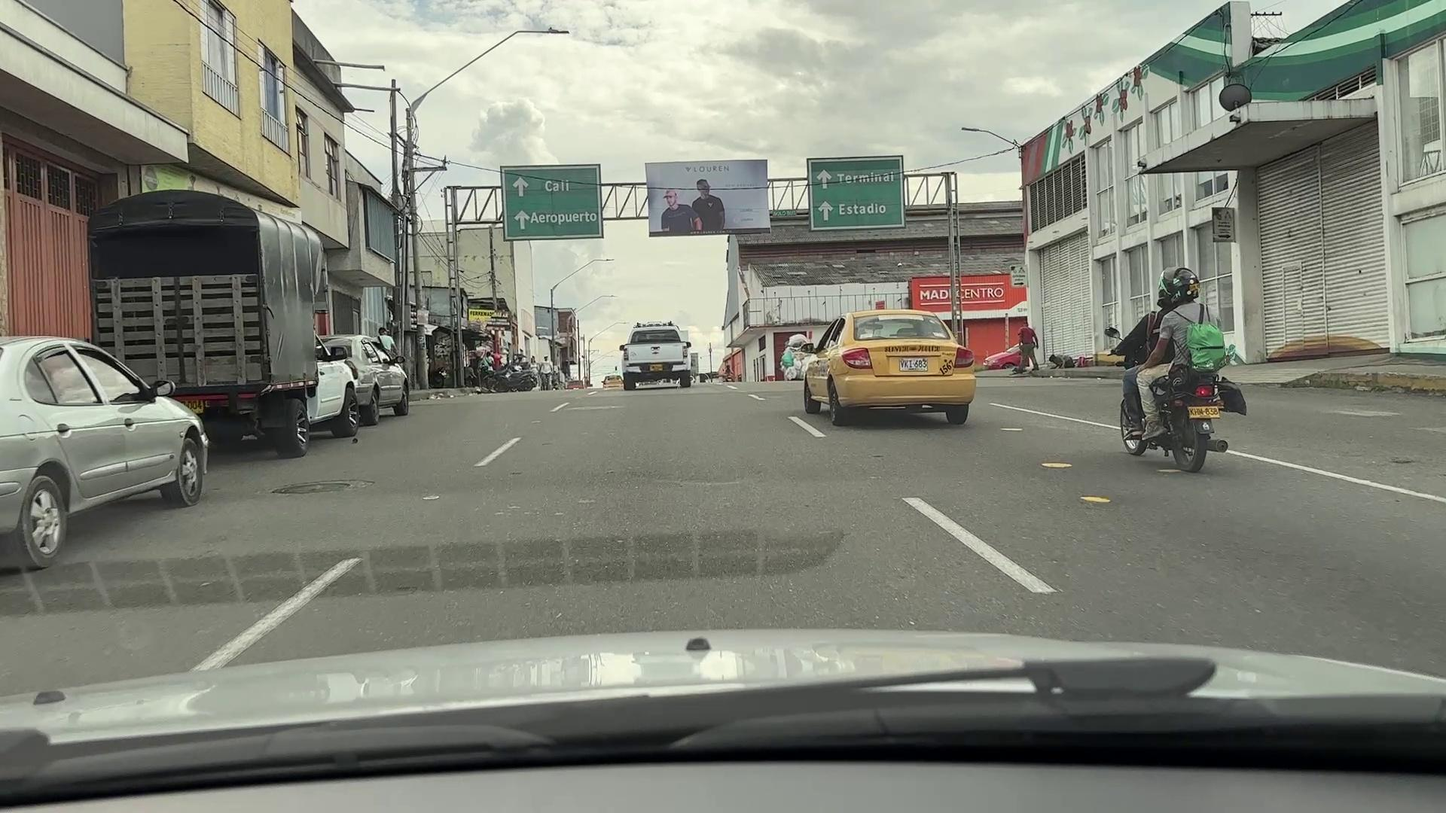bache: (1389, 460, 1411, 464)
registro: (272, 483, 350, 494)
